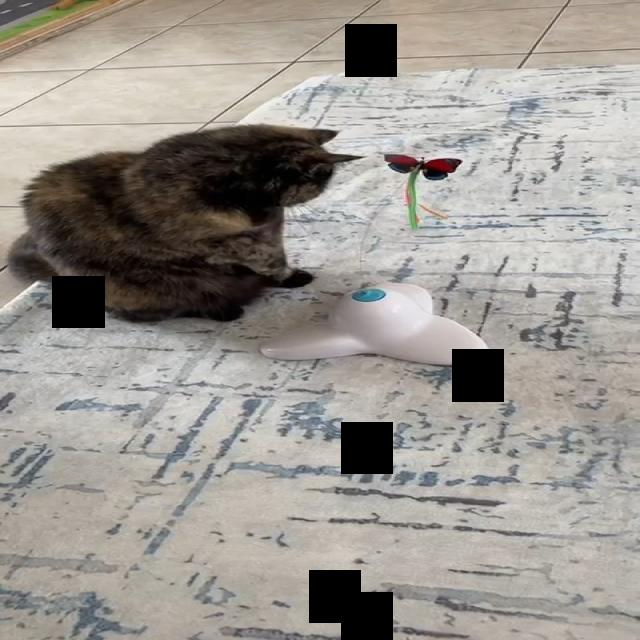authorized: (7, 122, 365, 323)
